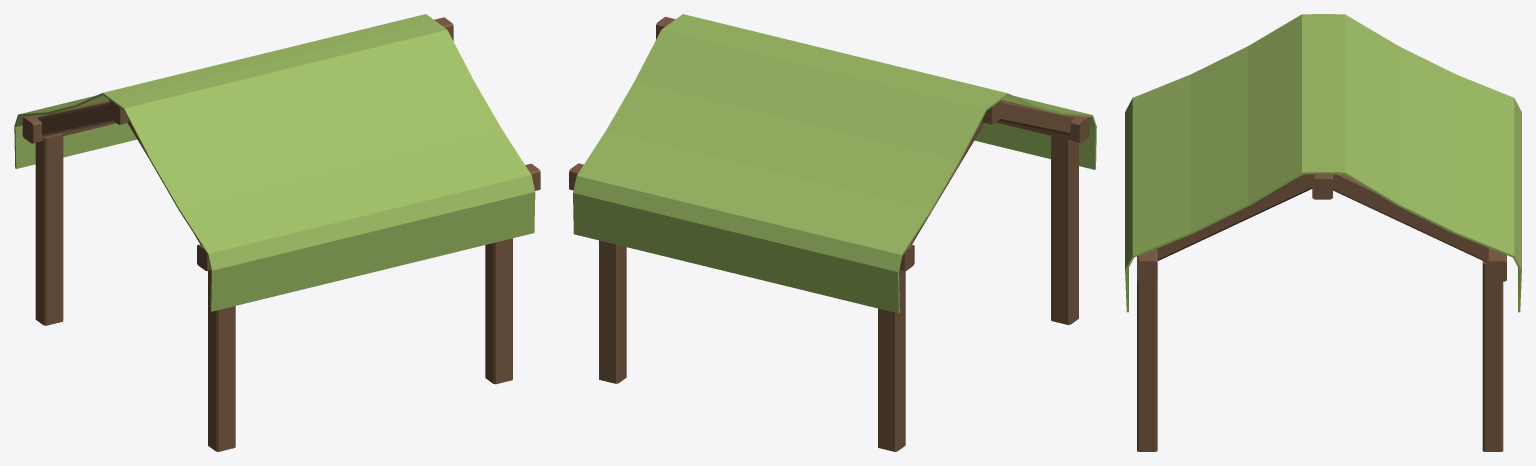
Rendered from tent.fbx.
3 views of the same model, side by side, from view 1: azimuth 30°, elevation 25°; view 2: azimuth 150°, elevation 25°; view 3: azimuth 270°, elevation 25° (orthographic).
Visible parts, largest first — view 1: Tent_Towel, Tent_Base; view 2: Tent_Towel, Tent_Base; view 3: Tent_Towel, Tent_Base.
Part boxes in pixels (bbox=[...]): Tent_Towel: bbox=[14, 14, 535, 311]; Tent_Base: bbox=[22, 17, 540, 451]; Tent_Towel: bbox=[573, 14, 1096, 313]; Tent_Base: bbox=[569, 16, 1089, 451]; Tent_Towel: bbox=[1125, 14, 1521, 312]; Tent_Base: bbox=[1137, 173, 1506, 451].
Bounding box in the file's own units: 456 × 373 × 466.
